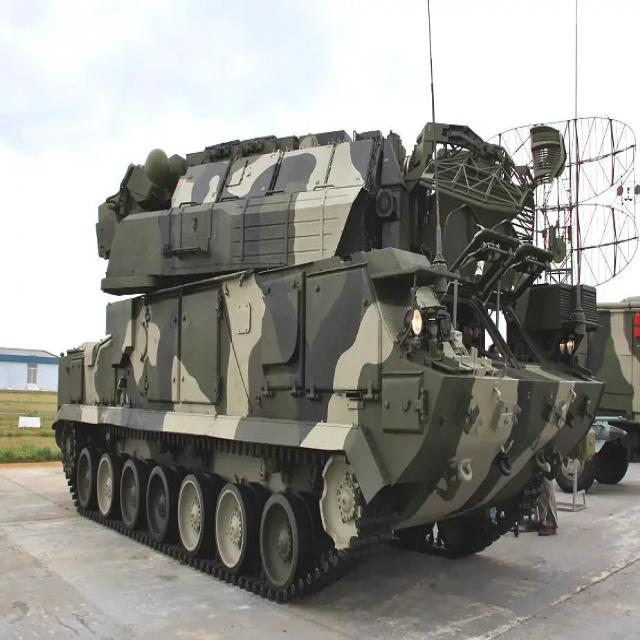MIL_EW_RDR: (54, 117, 600, 597)
